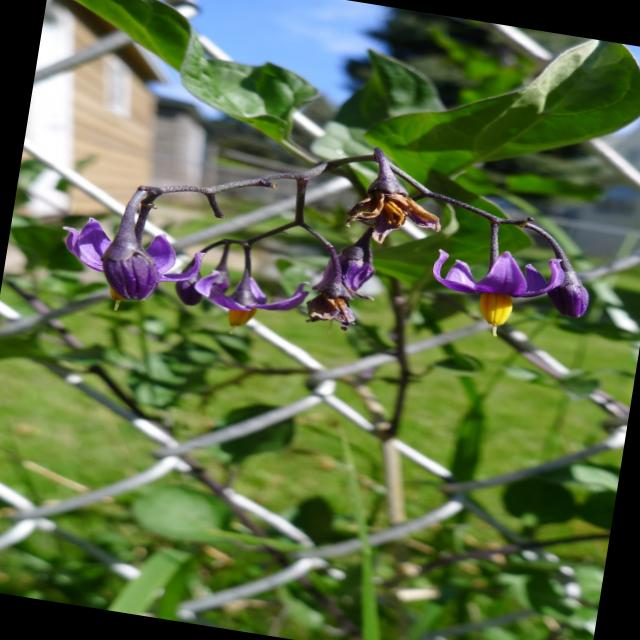Poisonous-Deadly_Nightshade: (28, 0, 640, 422)
